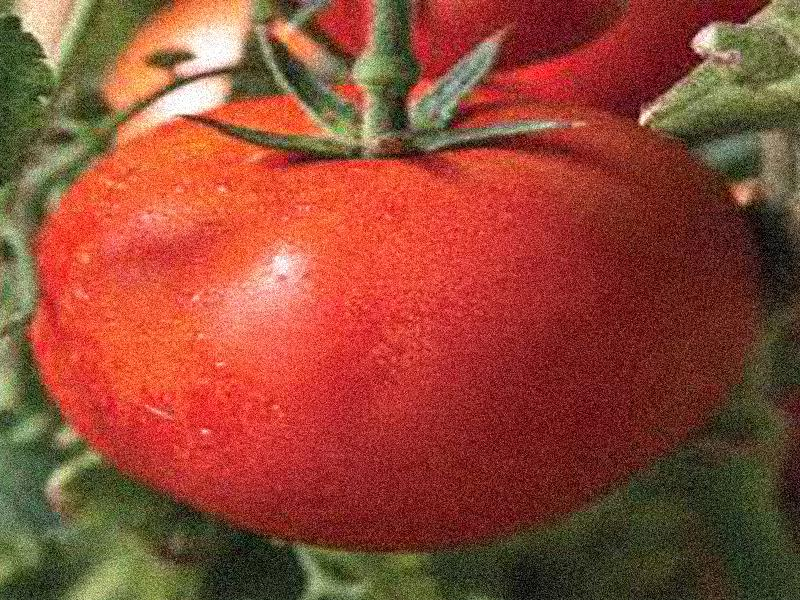Tomato: (31, 83, 756, 547)
